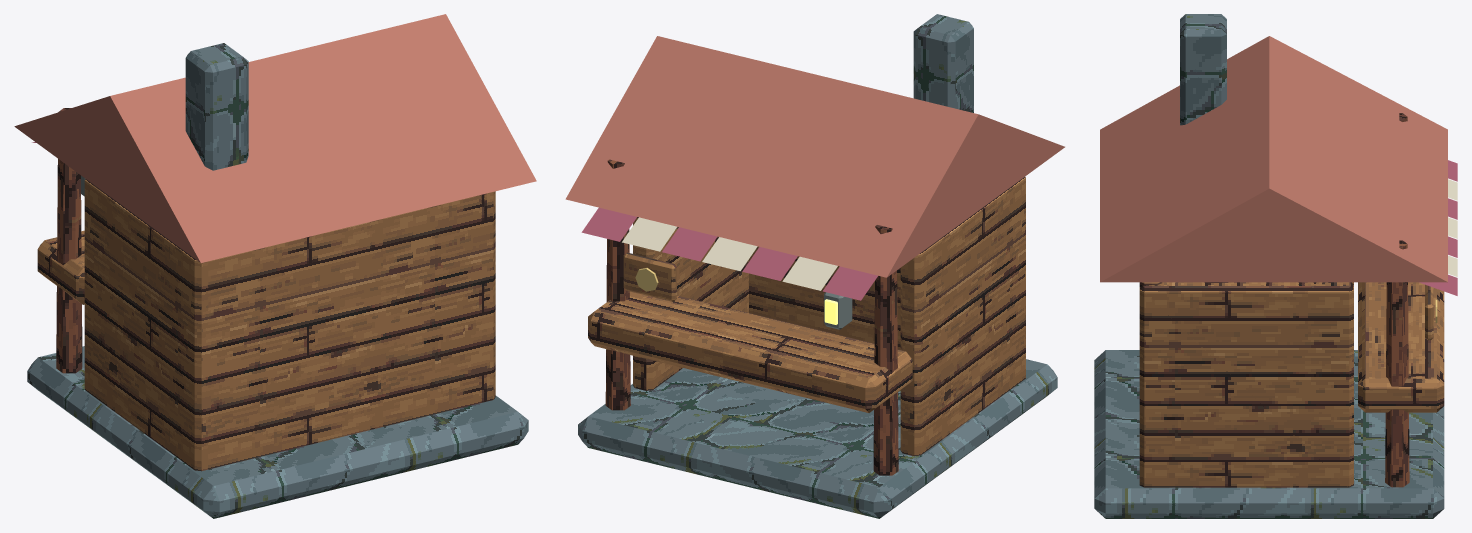
The model's file is loja_mascate.glb.
3 views of the same model, side by side, from view 1: azimuth 30°, elevation 25°; view 2: azimuth 150°, elevation 25°; view 3: azimuth 270°, elevation 25° (orthographic). The views are drawn at different scales.
Visible parts, largest first — view 1: bosque_loja_mascate; view 2: bosque_loja_mascate; view 3: bosque_loja_mascate.
Boxes of the visible parts, x1,y1,x2,y2 form: bosque_loja_mascate: (14,14,536,518); bosque_loja_mascate: (565,14,1064,518); bosque_loja_mascate: (1094,14,1457,518).
Bounding box in the file's own units: 1.92 × 2.26 × 1.93.
Materials: 9 (3 with a texture image).
